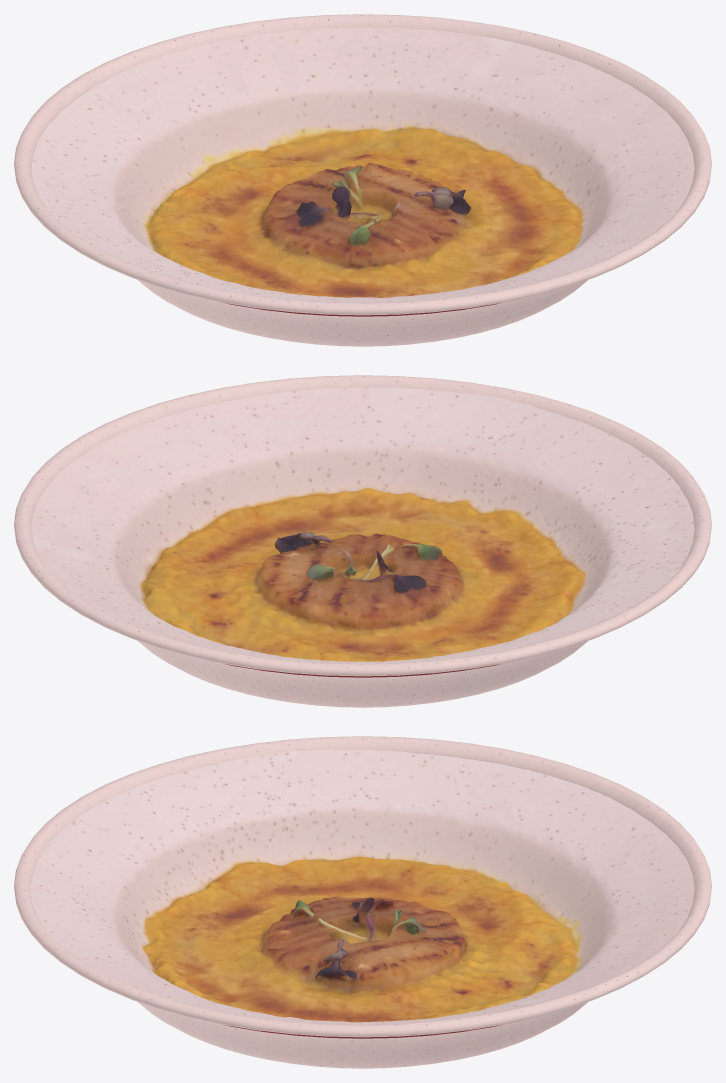
3 renders of one model, top to bottom at view 1: azimuth 30°, elevation 25°; view 2: azimuth 150°, elevation 25°; view 3: azimuth 270°, elevation 25°, orthographic.
Visible parts, largest first — view 1: default1.001, Plate; view 2: default1.001, Plate; view 3: default1.001, Plate.
Boxes of the visible parts, x1,y1,x2,y2 form: default1.001: (31,27,694,302); Plate: (14,14,711,346); default1.001: (31,387,694,663); Plate: (14,375,711,707); default1.001: (30,749,694,1024); Plate: (14,736,711,1068).
Size of the model in its own units: 0.1421 by 0.0224 by 0.1421.
2 materials, 2 textured.
